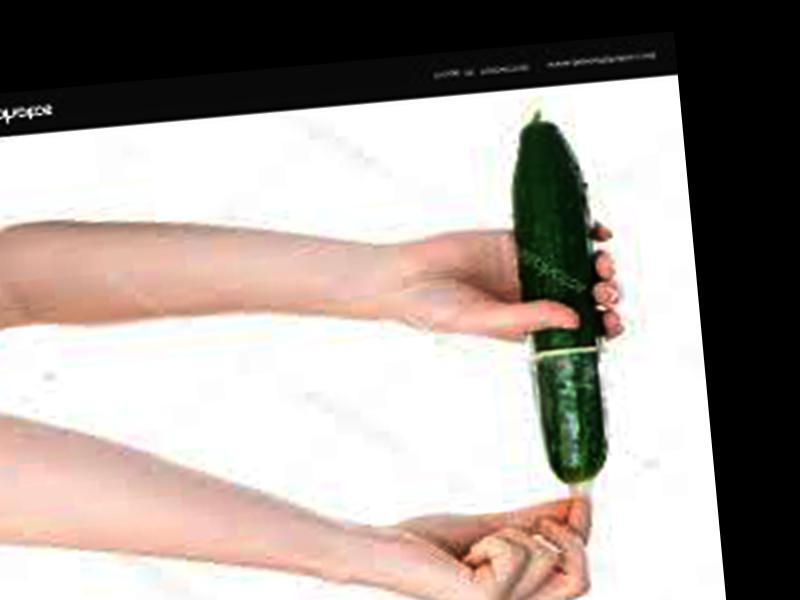Cucumber: (511, 108, 611, 487)
